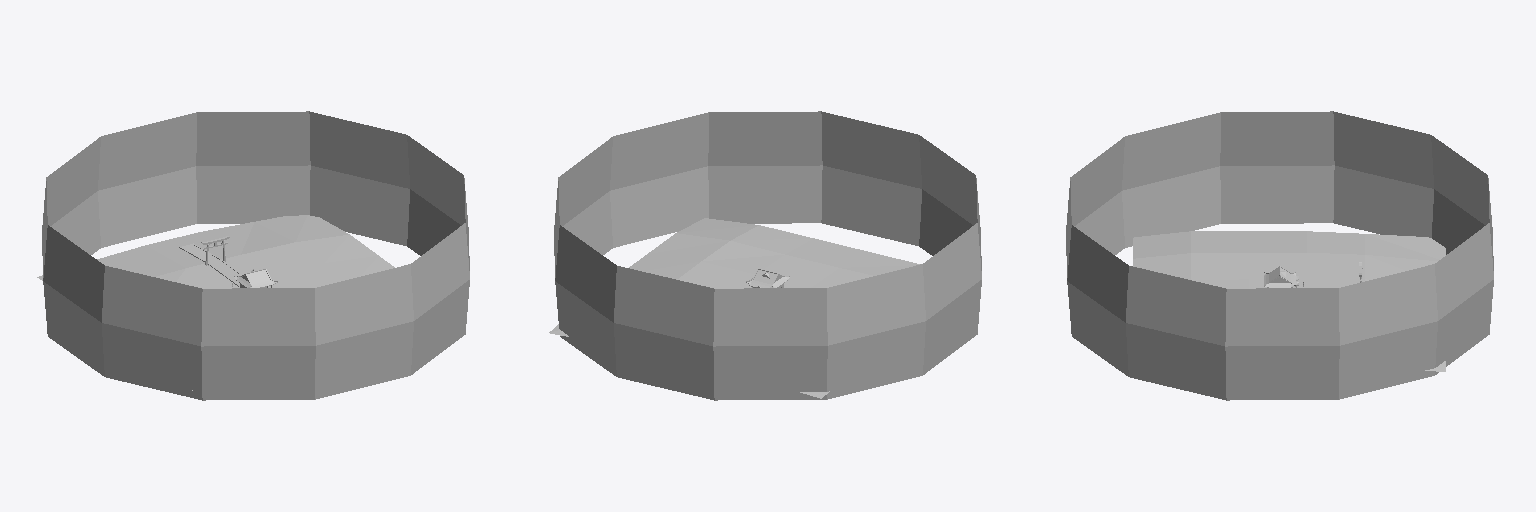
File: terrain.obj
3 views of the same model, side by side, from view 1: azimuth 30°, elevation 25°; view 2: azimuth 150°, elevation 25°; view 3: azimuth 270°, elevation 25° (orthographic).
Parts seen in each view (by area): view 1: 博麗神社風ステージ_mesh_博麗神社風ステージ; view 2: 博麗神社風ステージ_mesh_博麗神社風ステージ; view 3: 博麗神社風ステージ_mesh_博麗神社風ステージ.
Boxes of the visible parts, x1=… form: 博麗神社風ステージ_mesh_博麗神社風ステージ: x1=37, y1=111, x2=469, y2=400; 博麗神社風ステージ_mesh_博麗神社風ステージ: x1=549, y1=111, x2=981, y2=400; 博麗神社風ステージ_mesh_博麗神社風ステージ: x1=1066, y1=111, x2=1493, y2=400.
Size of the model in its own units: 187 by 53.86 by 187.